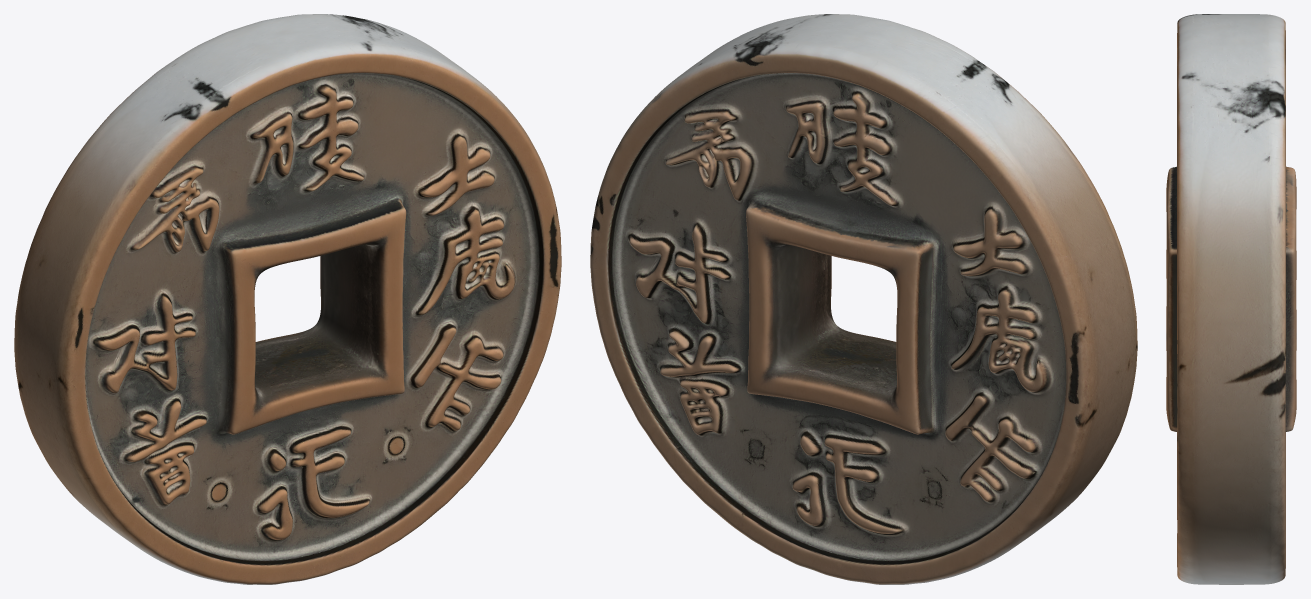
The model's file is coin.glb.
3 views of the same model, side by side, from view 1: azimuth 30°, elevation 25°; view 2: azimuth 150°, elevation 25°; view 3: azimuth 270°, elevation 25° (orthographic).
Size of the model in its own units: 1.9 by 1.9 by 0.432.
1 material, 1 textured.
